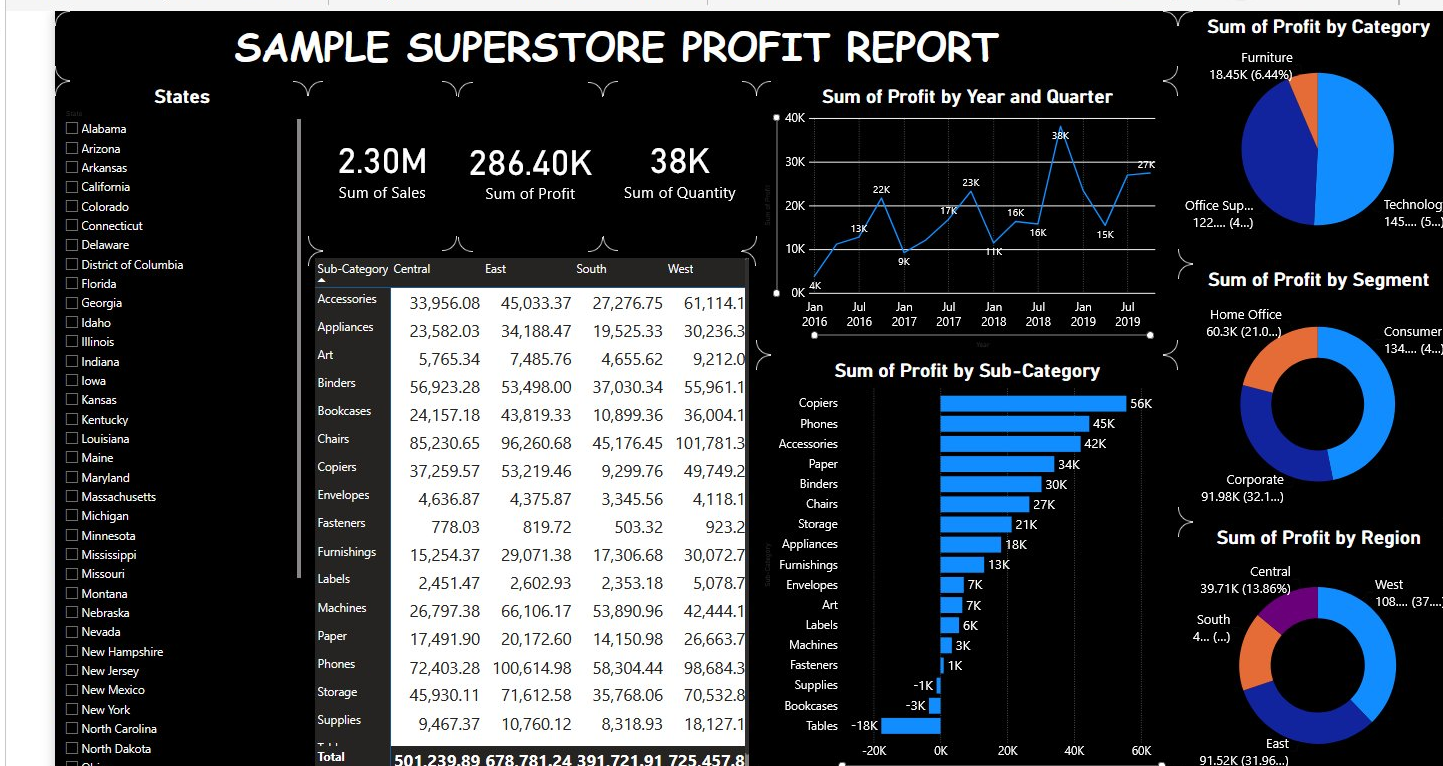

Layout of this report page (visuals, bound fields, positions):
{"tool":"powerbi","page":{"name":"Page 1","canvas":[2900,1600],"ordinal":0},"visuals":[{"type":"textbox","box":[0,0,2320.9,144.7],"z":0},{"type":"donutChart","fields":{"Y":["Sum(Orders.Profit)"],"Category":["Orders.Region"]},"box":[2320.9,1055.9,578.9,544.1],"z":1000},{"type":"donutChart","fields":{"Y":["Sum(Orders.Profit)"],"Category":["Orders.Segment"]},"box":[2320.9,522.6,578.9,533.3],"z":2000},{"type":"pieChart","fields":{"Category":["Orders.Category"],"Y":["Sum(Orders.Profit)"]},"box":[2320.9,0,578.9,522.6],"z":3000},{"type":"barChart","fields":{"Y":["Sum(Orders.Profit)"],"Category":["Orders.Sub-Category"]},"box":[1449.9,710.2,871,889.8],"z":4000},{"type":"lineChart","fields":{"Category":["Orders.Order Date.Variation.Date Hierarchy.Year","Orders.Order Date.Variation.Date Hierarchy.Quarter","Orders.Order Date.Variation.Date Hierarchy.Month","Orders.Order Date.Variation.Date Hierarchy.Day"],"Y":["Sum(Orders.Profit)"]},"box":[1449.9,144.7,871,565.5],"z":5000},{"type":"slicer","title":"States","fields":{"Values":["Orders.State"]},"box":[0,144.7,522.6,1455.3],"z":6000},{"type":"pivotTable","fields":{"Rows":["Orders.Sub-Category"],"Columns":["Orders.Region"],"Values":["Sum(Orders.Sales)"]},"box":[522.6,495.8,927.3,1104.2],"z":7000},{"type":"card","fields":{"Values":["Sum(Orders.Sales)"]},"box":[522.6,144.7,308.2,351.1],"z":8000},{"type":"card","fields":{"Values":["Sum(Orders.Profit)"]},"box":[830.8,147.4,300.2,351.1],"z":9000},{"type":"card","fields":{"Values":["Sum(Orders.Quantity)"]},"box":[1131,144.7,318.9,351.1],"z":10000}]}

Visuals, with their boxes on the page's 2900x1600 design canvas (x1, y1, x2, y2). These are canvas units, not pixel positions in the 1443x766 screenshot, which may show the page scaled, cropped or inside an application window:
textbox: [0, 0, 2321, 145]
donutChart - Sum(Orders.Profit) x Orders.Region: [2321, 1056, 2900, 1600]
donutChart - Sum(Orders.Profit) x Orders.Segment: [2321, 523, 2900, 1056]
pieChart - Orders.Category x Sum(Orders.Profit): [2321, 0, 2900, 523]
barChart - Sum(Orders.Profit) x Orders.Sub-Category: [1450, 710, 2321, 1600]
lineChart - Orders.Order Date.Variation.Date Hierarchy.Year x Orders.Order Date.Variation.Date Hierarchy.Quarter: [1450, 145, 2321, 710]
"States" slicer: [0, 145, 523, 1600]
pivotTable - Orders.Sub-Category x Orders.Region: [523, 496, 1450, 1600]
card - Sum(Orders.Sales): [523, 145, 831, 496]
card - Sum(Orders.Profit): [831, 147, 1131, 498]
card - Sum(Orders.Quantity): [1131, 145, 1450, 496]
